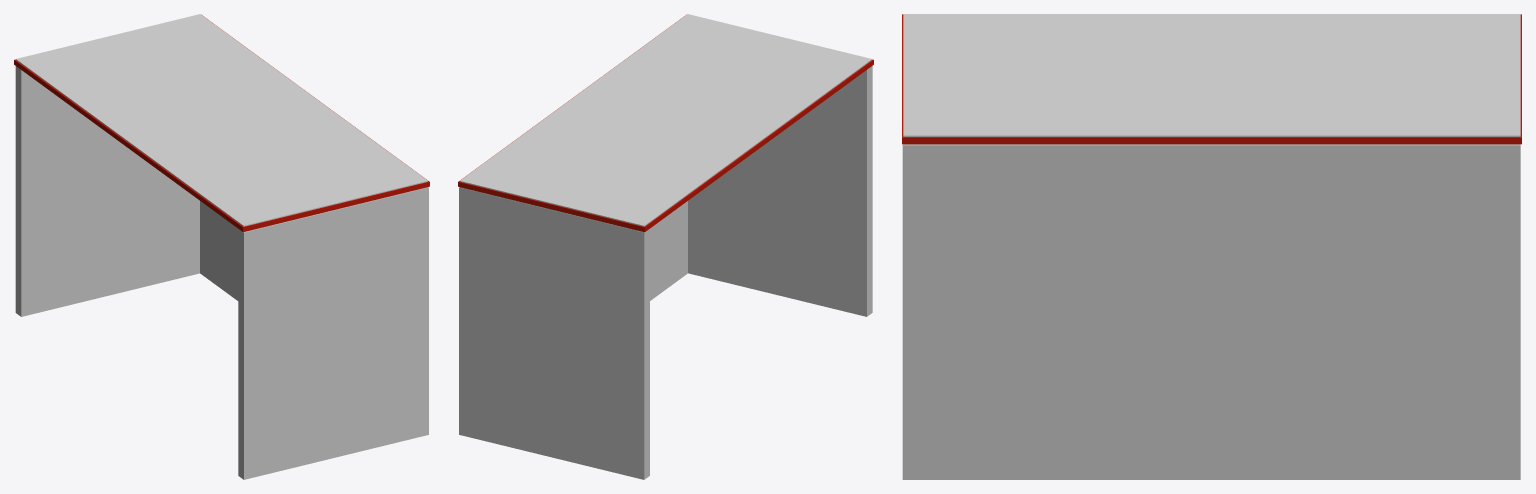
Rendered from teachtable.fbx.
3 views of the same model, side by side, from view 1: azimuth 30°, elevation 25°; view 2: azimuth 150°, elevation 25°; view 3: azimuth 270°, elevation 25° (orthographic). The views are drawn at different scales.
Visible parts, largest first — view 1: Cube.003, Cube.004, Cube.001, Cube.002, Cube.005; view 2: Cube.001, Cube.004, Cube.003, Cube.005, Cube.002; view 3: Cube.002, Cube.004, Cube.005, Cube.003.
Part boxes in pixels (x1=…): Cube.003: x1=238, y1=187, x2=428, y2=479; Cube.004: x1=16, y1=14, x2=427, y2=232; Cube.001: x1=15, y1=66, x2=199, y2=316; Cube.002: x1=200, y1=201, x2=238, y2=300; Cube.005: x1=14, y1=14, x2=429, y2=231; Cube.001: x1=459, y1=187, x2=649, y2=479; Cube.004: x1=459, y1=14, x2=872, y2=232; Cube.003: x1=688, y1=66, x2=872, y2=316; Cube.005: x1=458, y1=14, x2=873, y2=232; Cube.002: x1=650, y1=201, x2=687, y2=300; Cube.002: x1=903, y1=144, x2=1520, y2=479; Cube.004: x1=903, y1=14, x2=1520, y2=144; Cube.005: x1=902, y1=14, x2=1521, y2=144; Cube.003: x1=902, y1=144, x2=903, y2=479.
Bounding box in the file's own units: 202 × 262 × 429.
